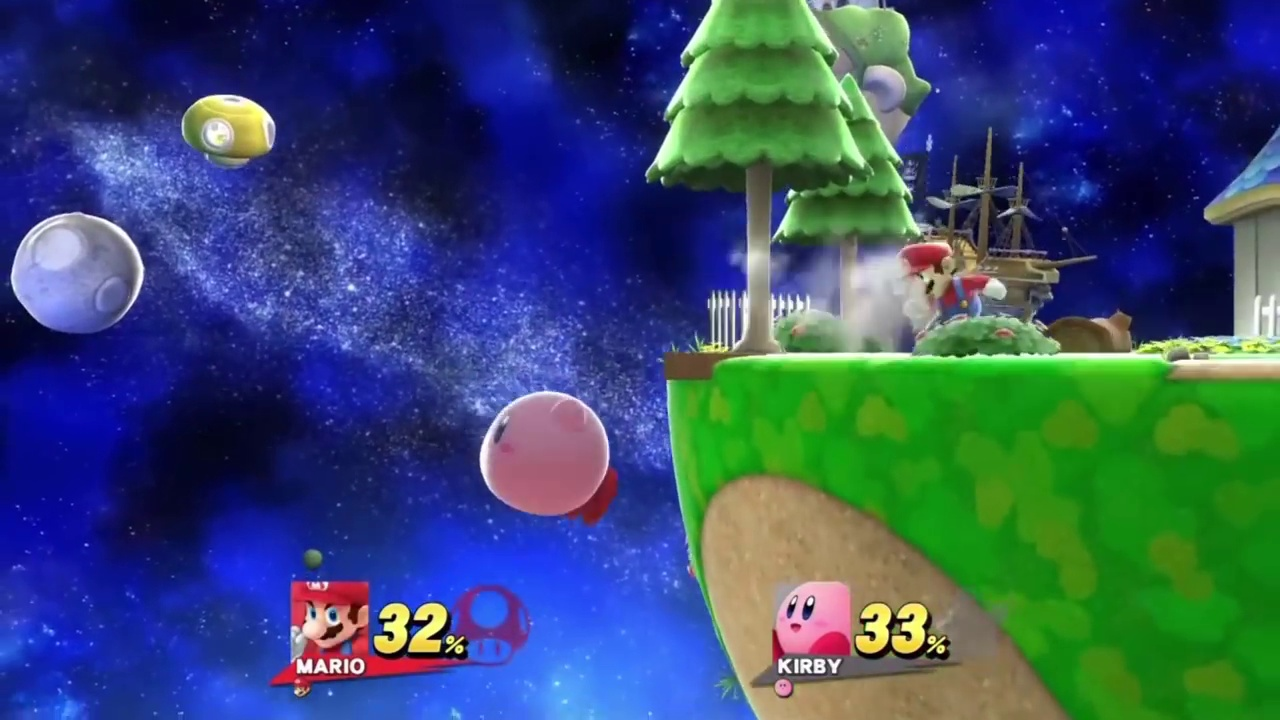Mario: (896, 245, 1009, 321)
